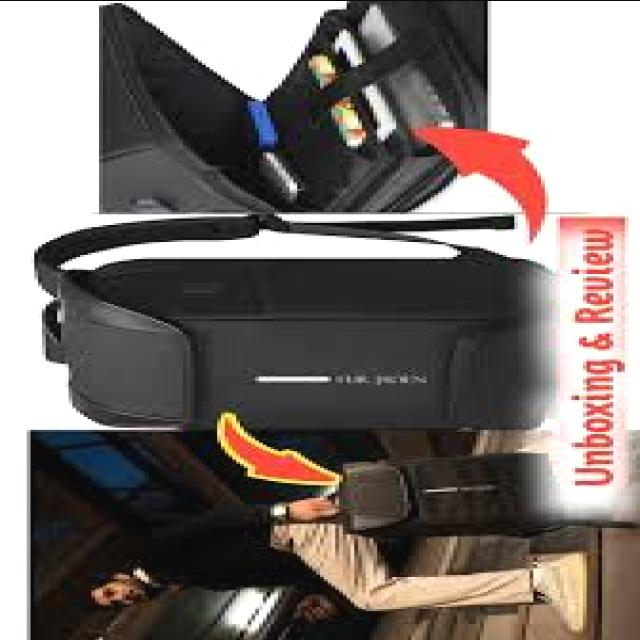backpack: (26, 217, 560, 436), (81, 1, 481, 215), (323, 453, 559, 541)
